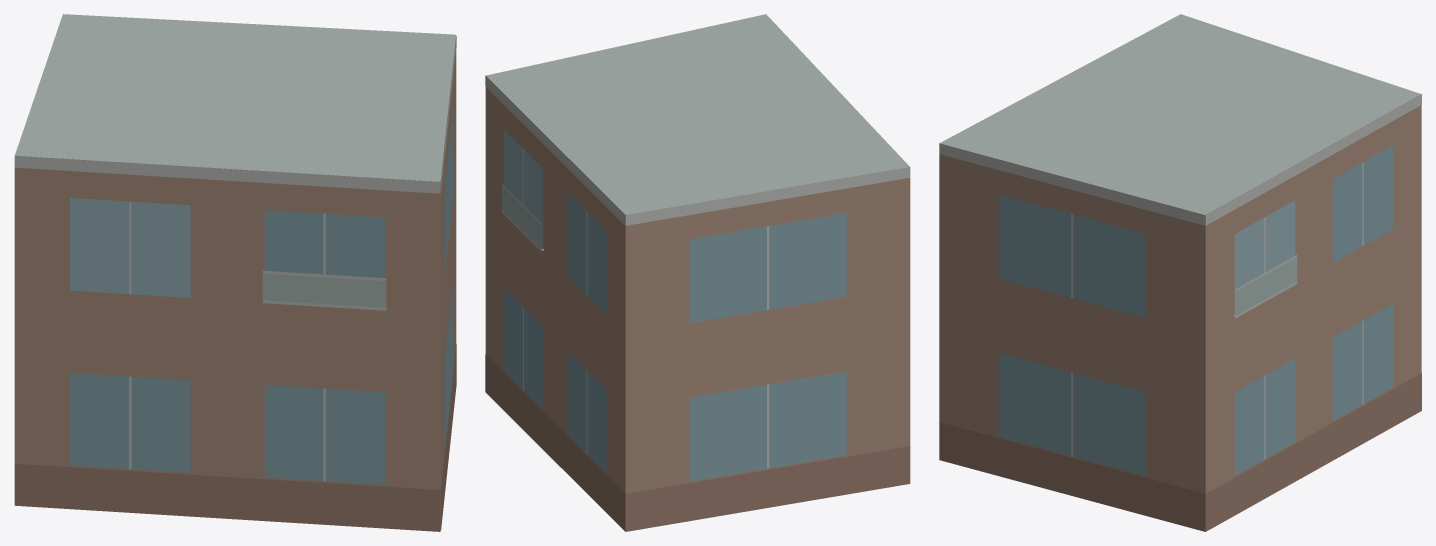
Rendered from survey-upis-32950387.glb.
3 views of the same model, side by side, from view 1: azimuth 30°, elevation 25°; view 2: azimuth 150°, elevation 25°; view 3: azimuth 270°, elevation 25° (orthographic). The views are drawn at different scales.
Parts seen in each view (by area): view 1: survey-upis-32950387.tmp; view 2: survey-upis-32950387.tmp; view 3: survey-upis-32950387.tmp.
Boxes of the visible parts, <box> form: survey-upis-32950387.tmp: <box>14,14,456,531</box>; survey-upis-32950387.tmp: <box>485,14,910,531</box>; survey-upis-32950387.tmp: <box>939,14,1421,531</box>.
Size of the model in its own units: 9.82 by 7.2 by 9.95.
